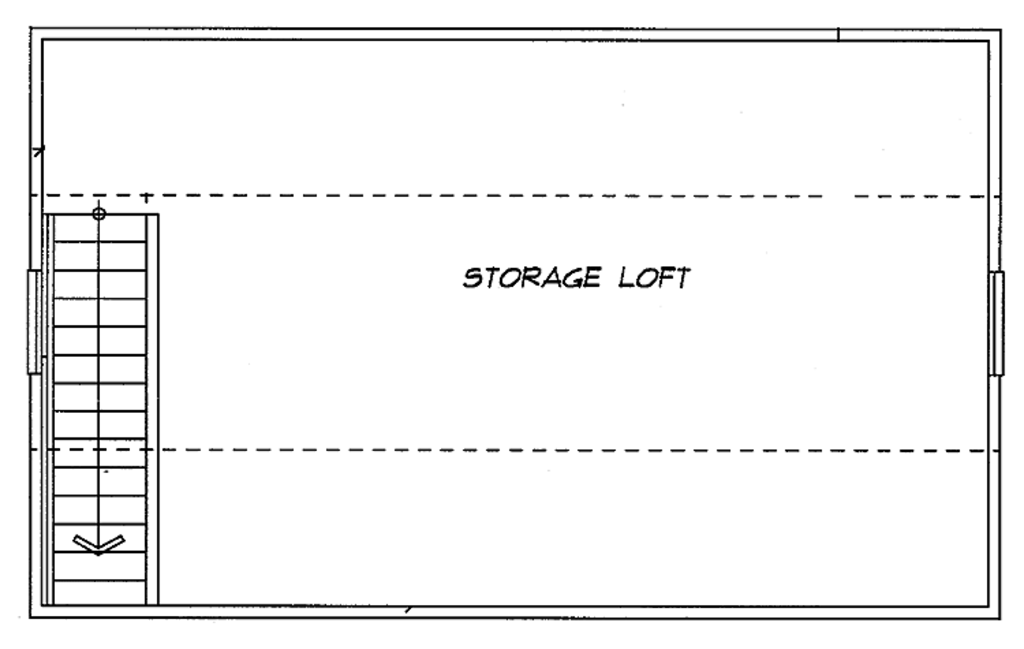stairs: (46, 196, 169, 605)
window: (989, 274, 1004, 375), (27, 270, 40, 377)
